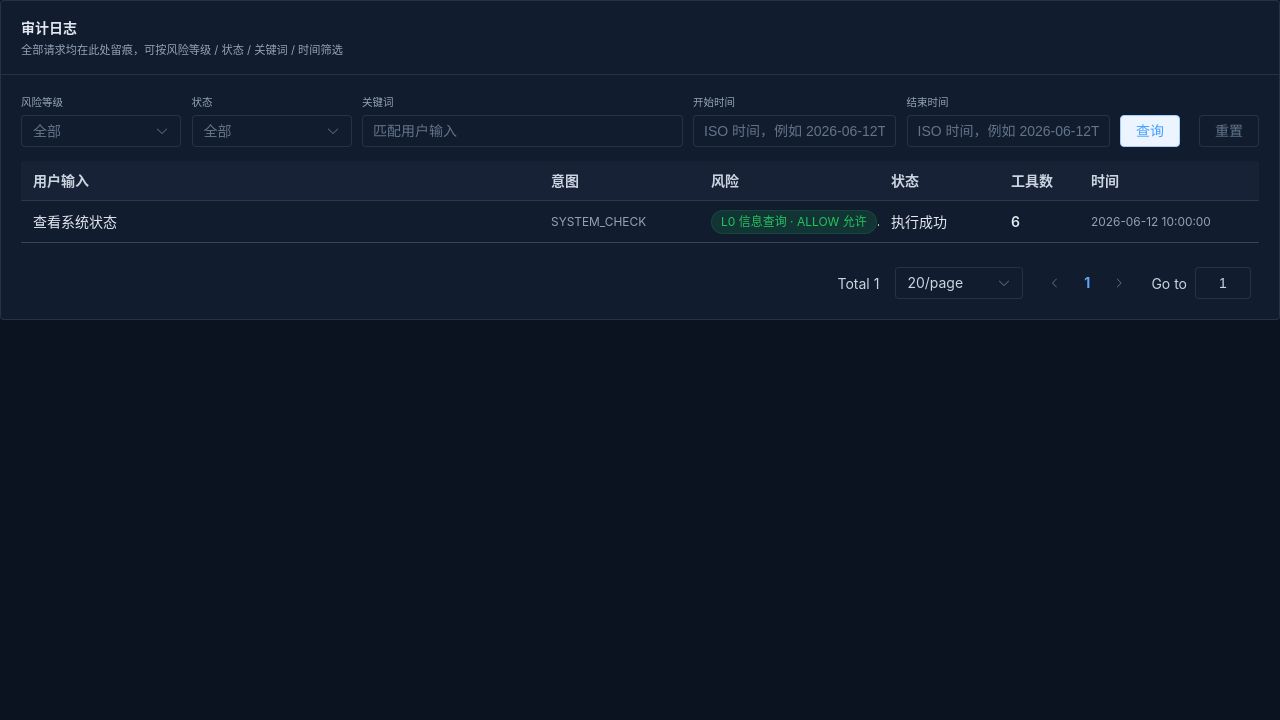
it: AuditLog page — detail drawer › renders parsed JSON fields safely in the detail drawer
Step 1. Click the text with test id "audit-row-a-parse" → (75,221), box [33,213,117,230]
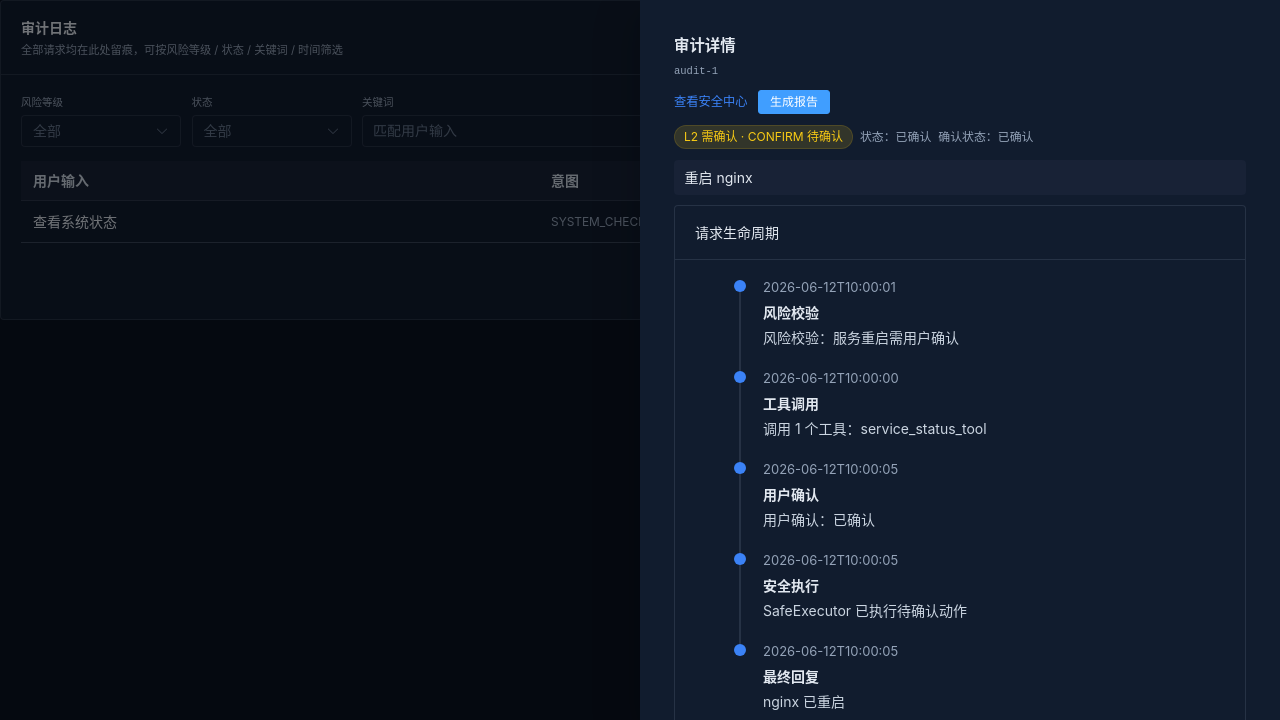
expect the dialog with test id "audit-detail-drawer" is shown: met, box [640,0,1279,719]
